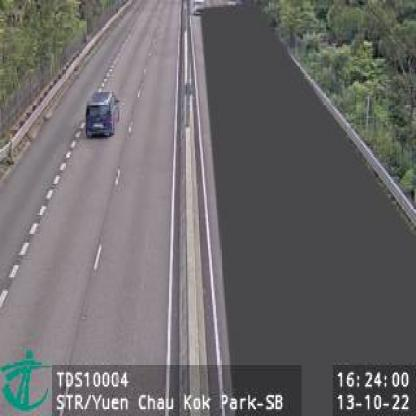Car: (85, 90, 119, 137)
